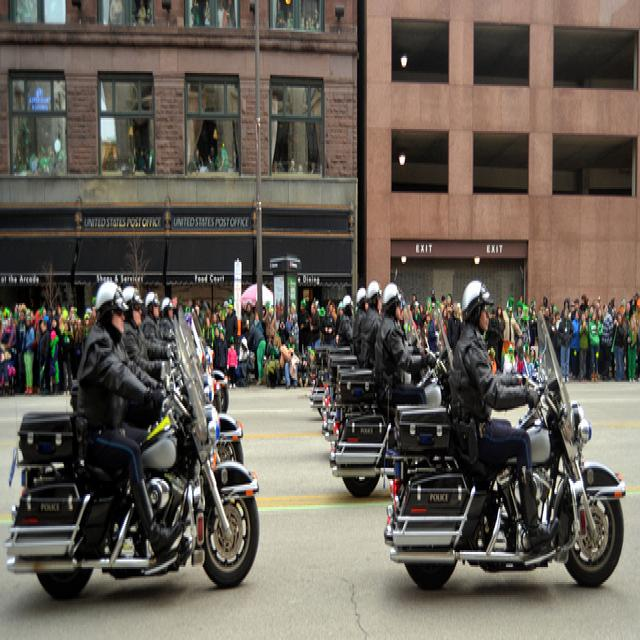motor: (4, 337, 261, 606), (384, 341, 628, 593), (329, 350, 448, 475), (176, 313, 243, 460), (334, 387, 422, 486), (187, 309, 223, 413), (322, 353, 360, 433), (309, 342, 349, 400), (211, 369, 230, 414)
